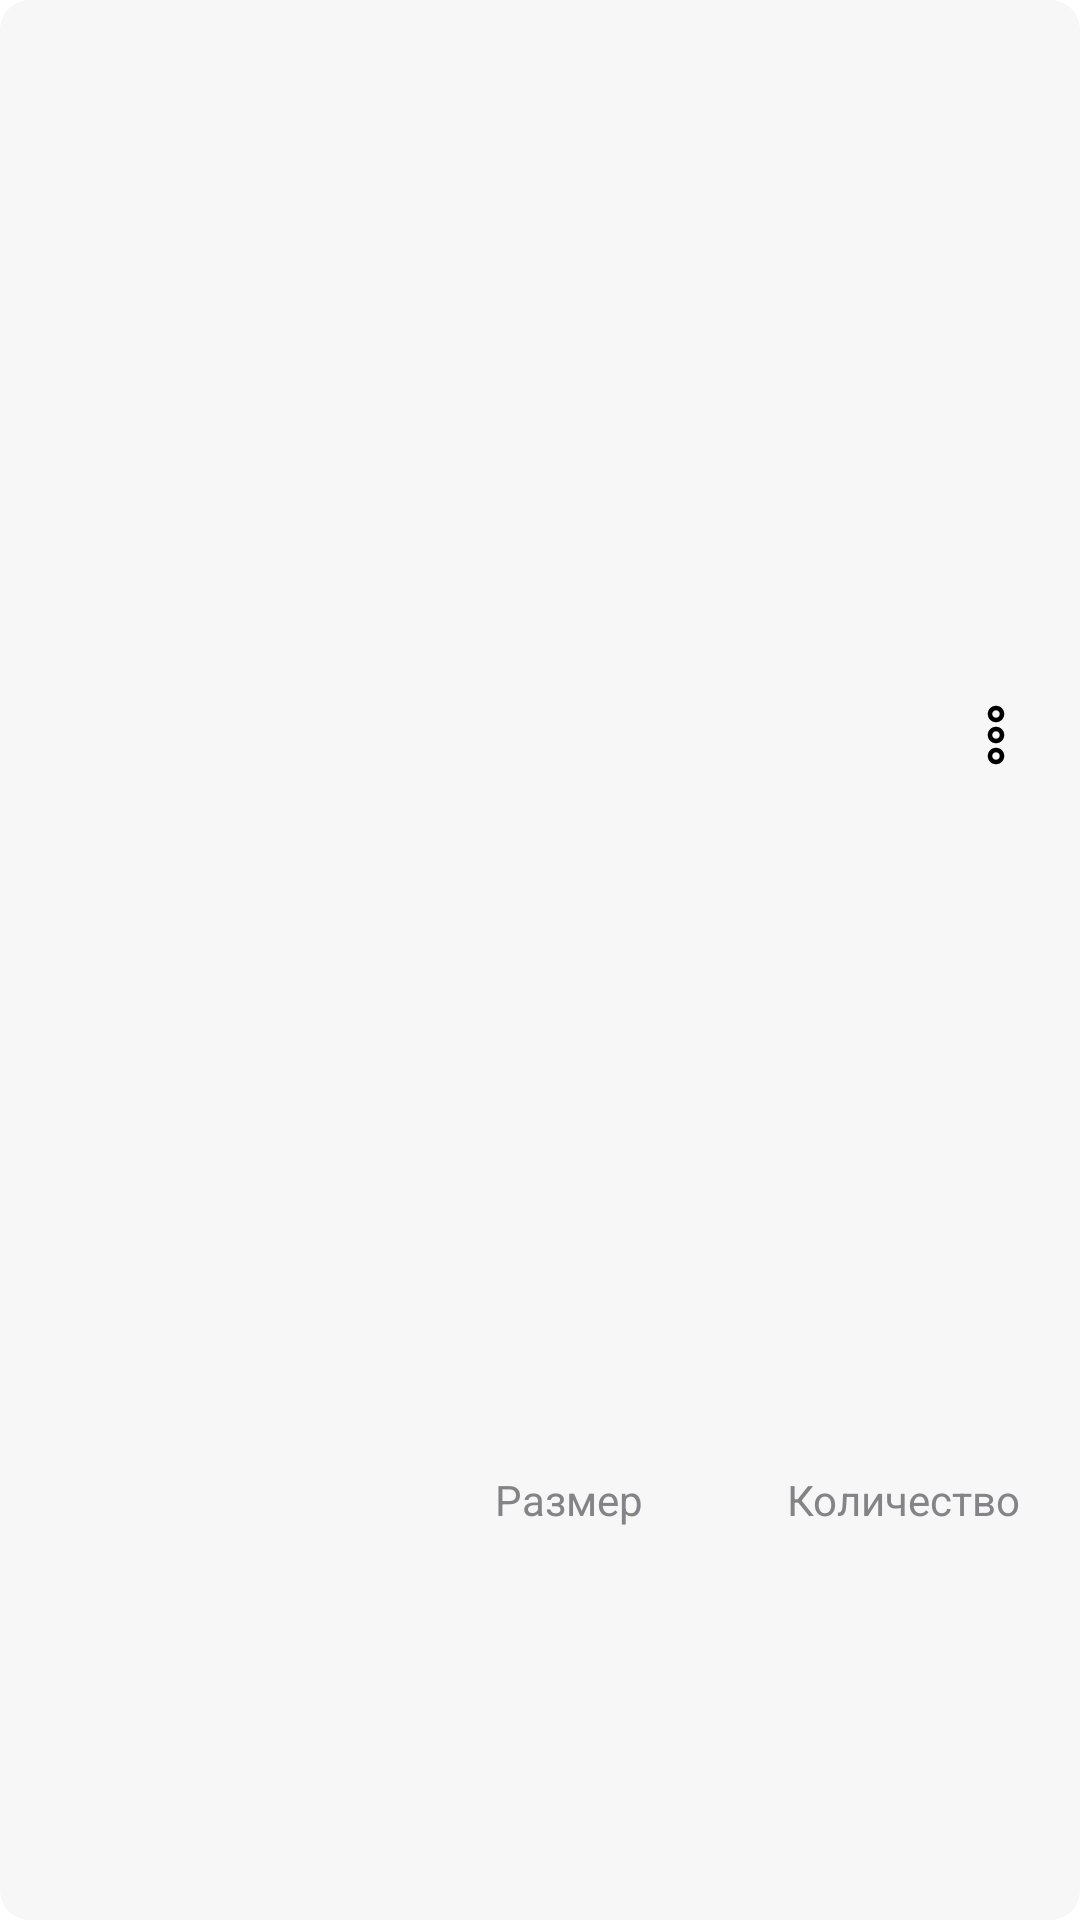

Icons on this 1080×1920 Android screen, each with its box as (x1, y1, x2, y2):
more: (987, 705, 1005, 765)
